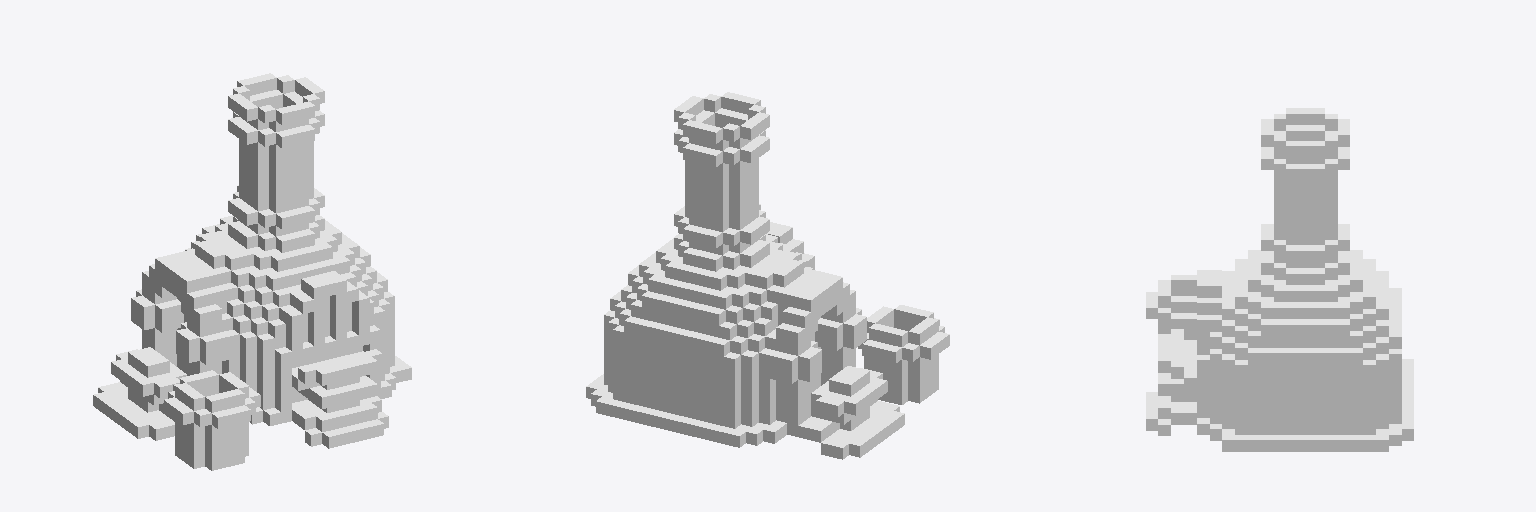
The model's file is cubeland1-23.obj.
The picture shows the model from 3 angles: view 1: azimuth 30°, elevation 25°; view 2: azimuth 150°, elevation 25°; view 3: azimuth 270°, elevation 25°; orthographic projection.
Visible parts, largest first — view 1: object 1; view 2: object 1; view 3: object 1.
Boxes of the visible parts, x1=… form: object 1: x1=93, y1=73, x2=411, y2=470; object 1: x1=586, y1=92, x2=949, y2=459; object 1: x1=1146, y1=108, x2=1413, y2=451.
Bounding box in the file's own units: 2.3 × 2.5 × 2.1.